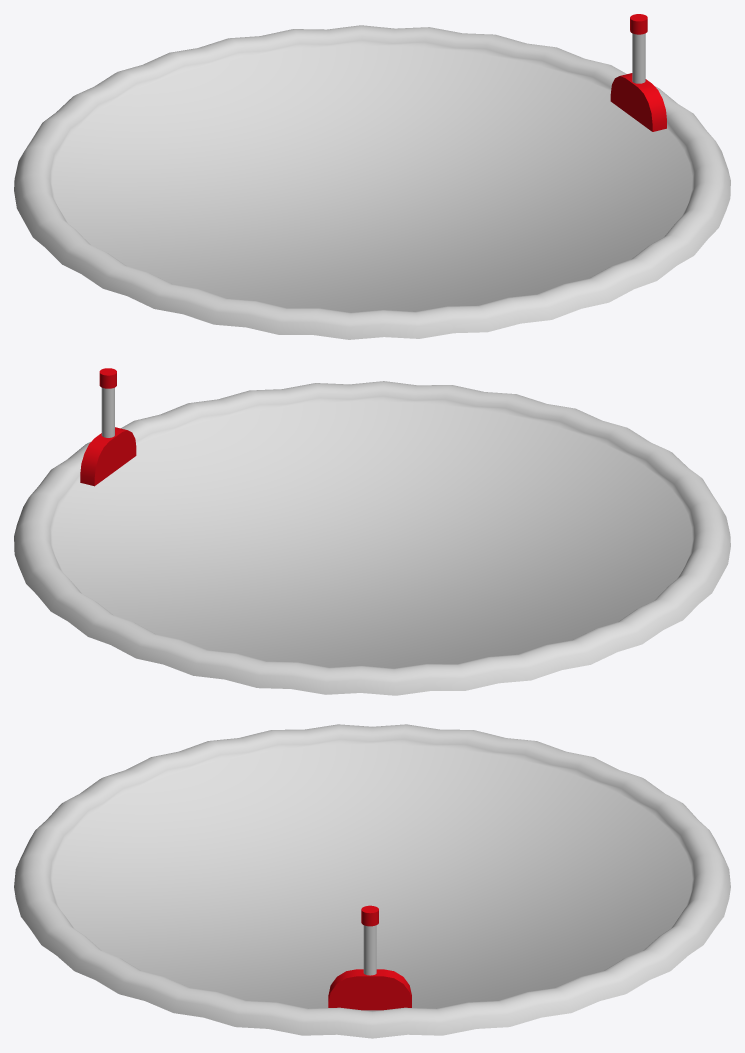
The model's file is MortairTower_RotatingBody.fbx.
3 views of the same model, one above another, from view 1: azimuth 30°, elevation 25°; view 2: azimuth 150°, elevation 25°; view 3: azimuth 270°, elevation 25° (orthographic).
Parts seen in each view (by area): view 1: Circle.007; view 2: Circle.007; view 3: Circle.007.
Part boxes in pixels (x1,y1,x2,y2): Circle.007: (14,14,730,339); Circle.007: (14,368,730,695); Circle.007: (14,724,730,1038).
Size of the model in its own units: 3.62 by 0.602 by 3.62.
